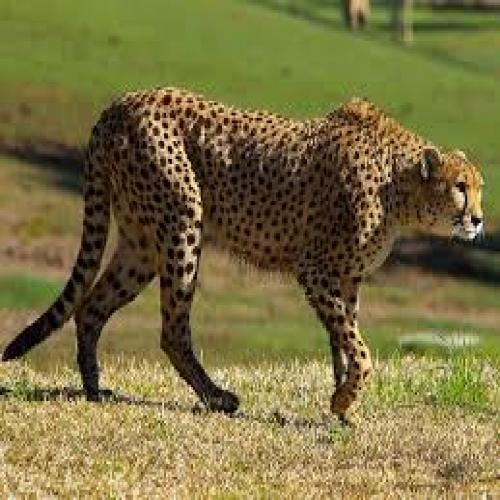cheetah-endangered: (2, 83, 485, 422)
